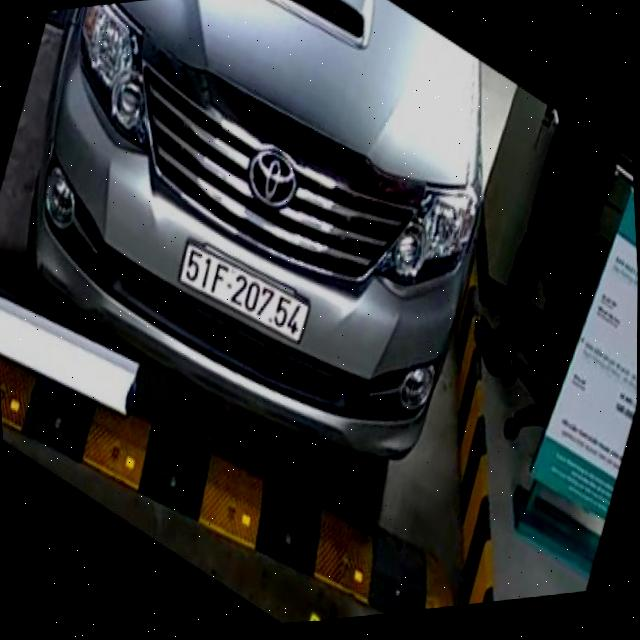car: (16, 0, 505, 506)
plate: (171, 222, 313, 359)
